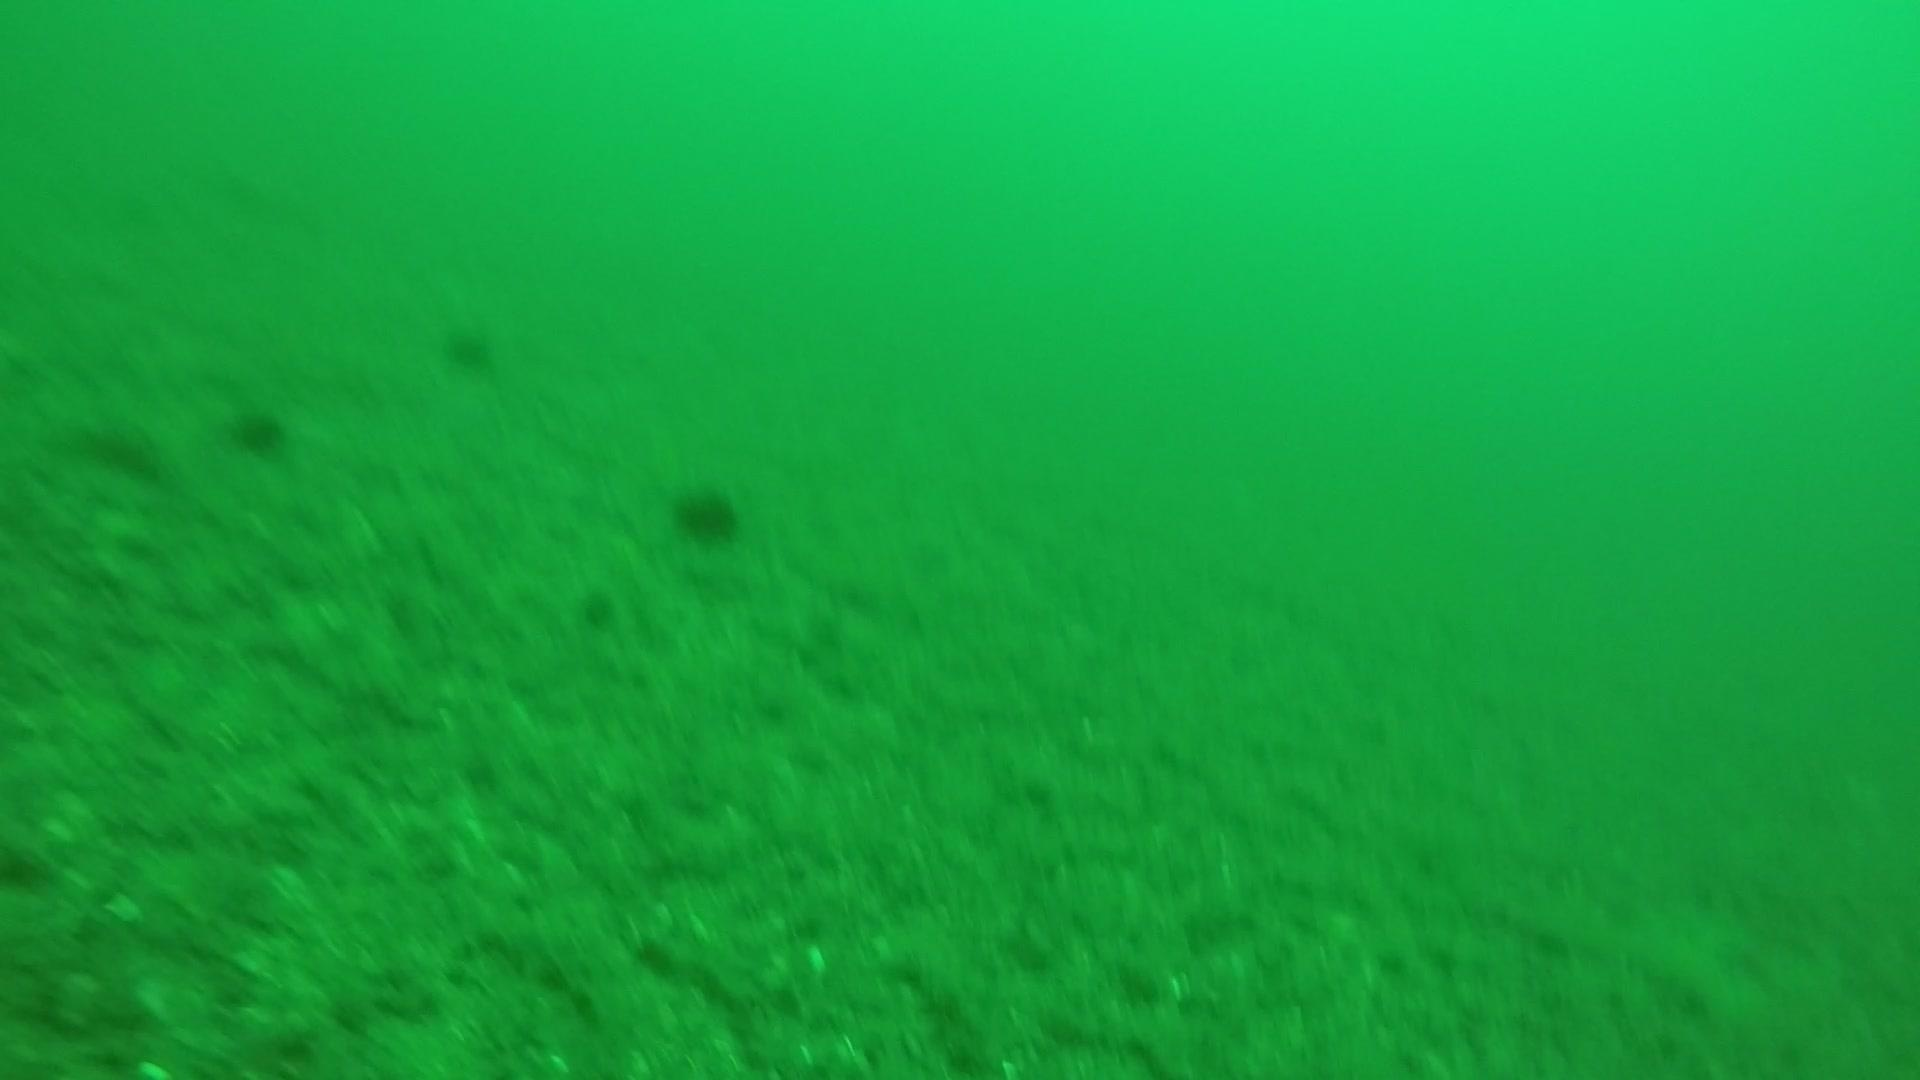echinus: (667, 477, 745, 547), (225, 400, 291, 459), (438, 316, 500, 375)
